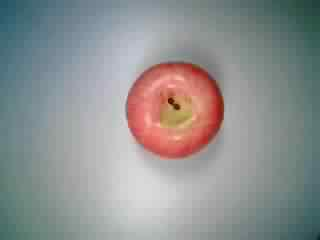apple: (122, 57, 227, 159)
